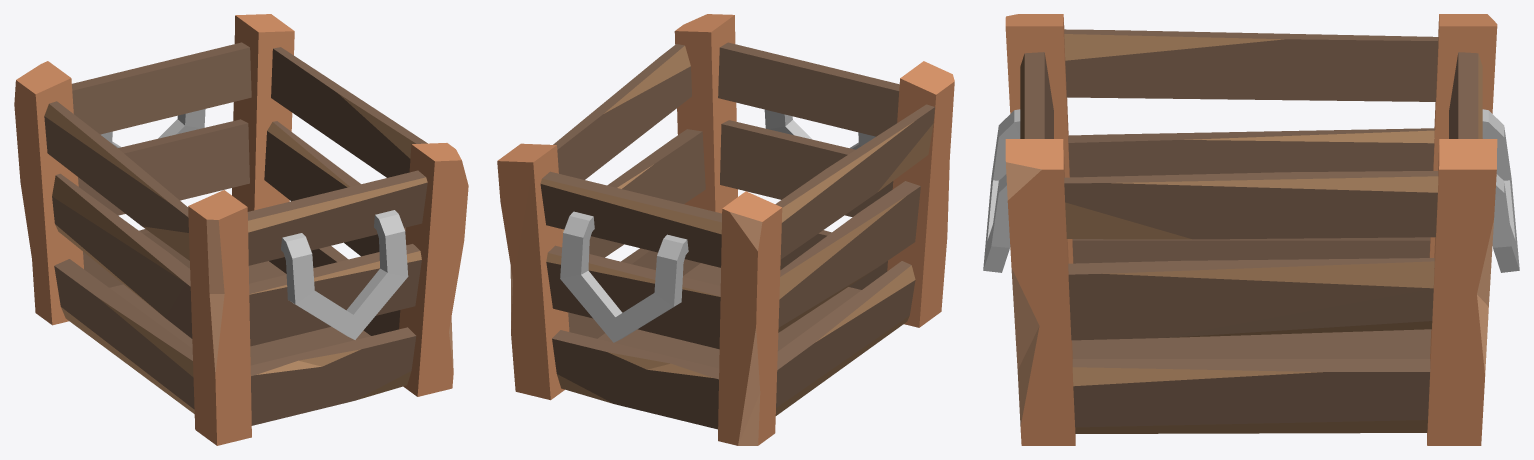
Rendered from Crate.fbx.
The picture shows the model from 3 angles, left to right: view 1: azimuth 30°, elevation 25°; view 2: azimuth 150°, elevation 25°; view 3: azimuth 270°, elevation 25°; orthographic projection. The views are drawn at different scales.
Parts seen in each view (by area): view 1: Crate; view 2: Crate; view 3: Crate.
Part boxes in pixels (bbox=[...]): Crate: bbox=[14, 14, 468, 445]; Crate: bbox=[497, 14, 954, 445]; Crate: bbox=[983, 14, 1519, 445].
Size of the model in its own units: 14.95 by 13.11 by 21.79.
